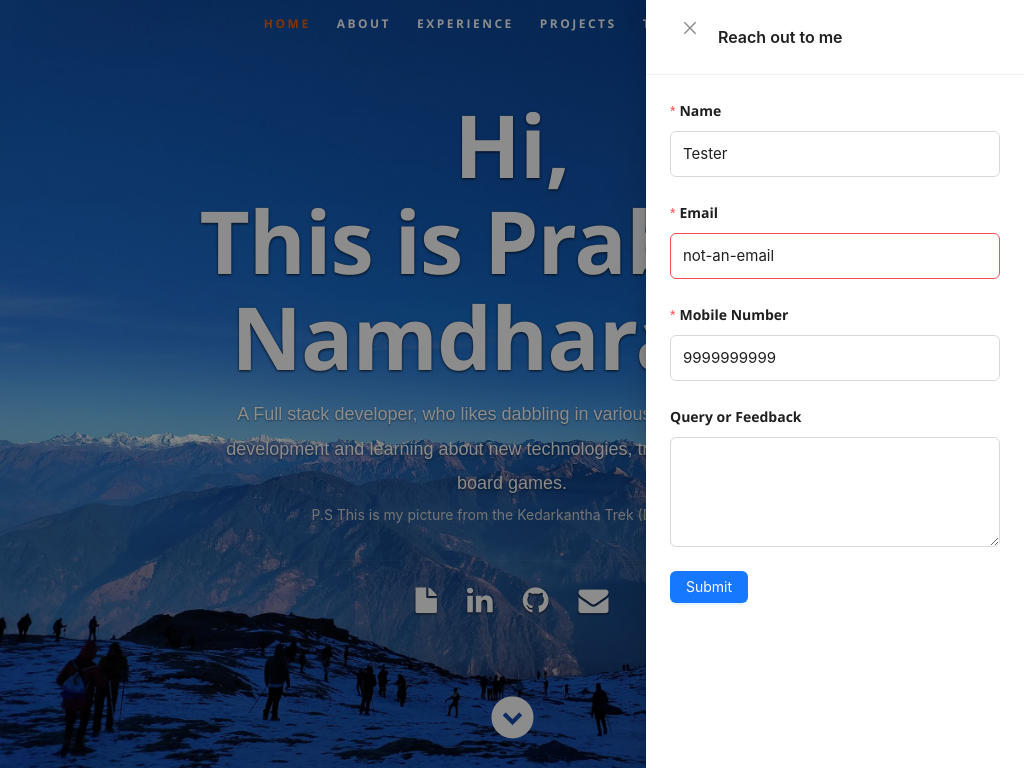
Test: portfolio › checks the contact form before sending, then sends the values
Earlier steps of the test are not shown.
Replace the text in the field labelled "Email" with "tester@example.com" at (835, 256), box left=670, top=233, right=1000, bottom=279
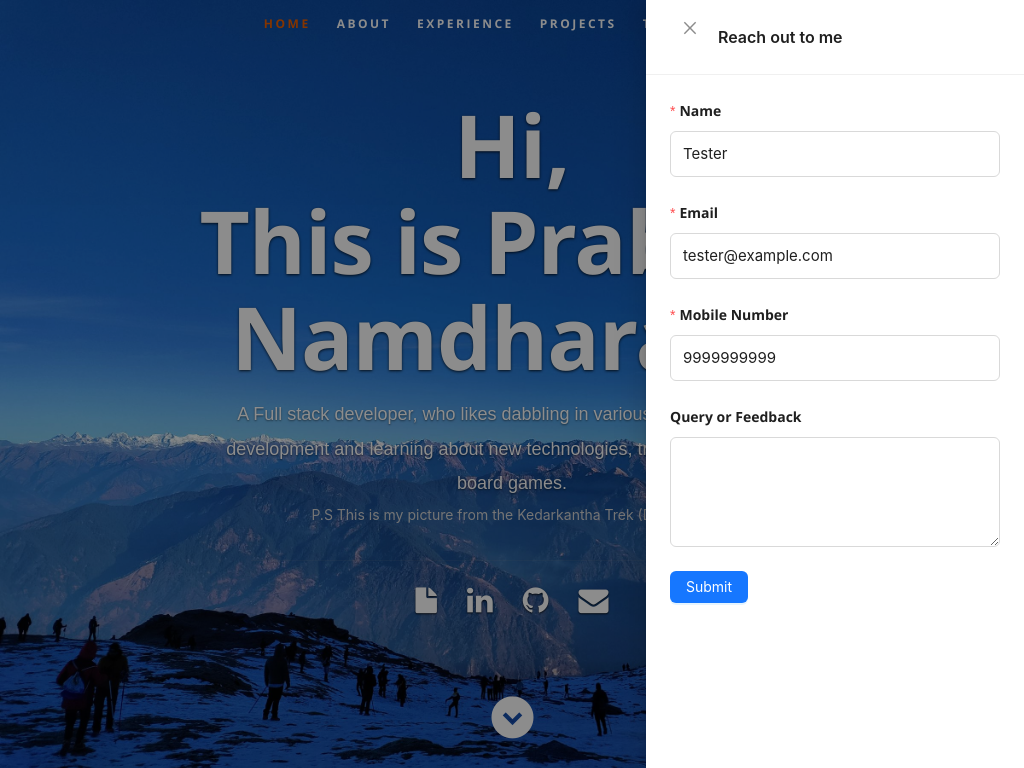
Type "Hello" into the text box labelled "Query or Feedback" at (835, 492), box left=670, top=437, right=1000, bottom=547
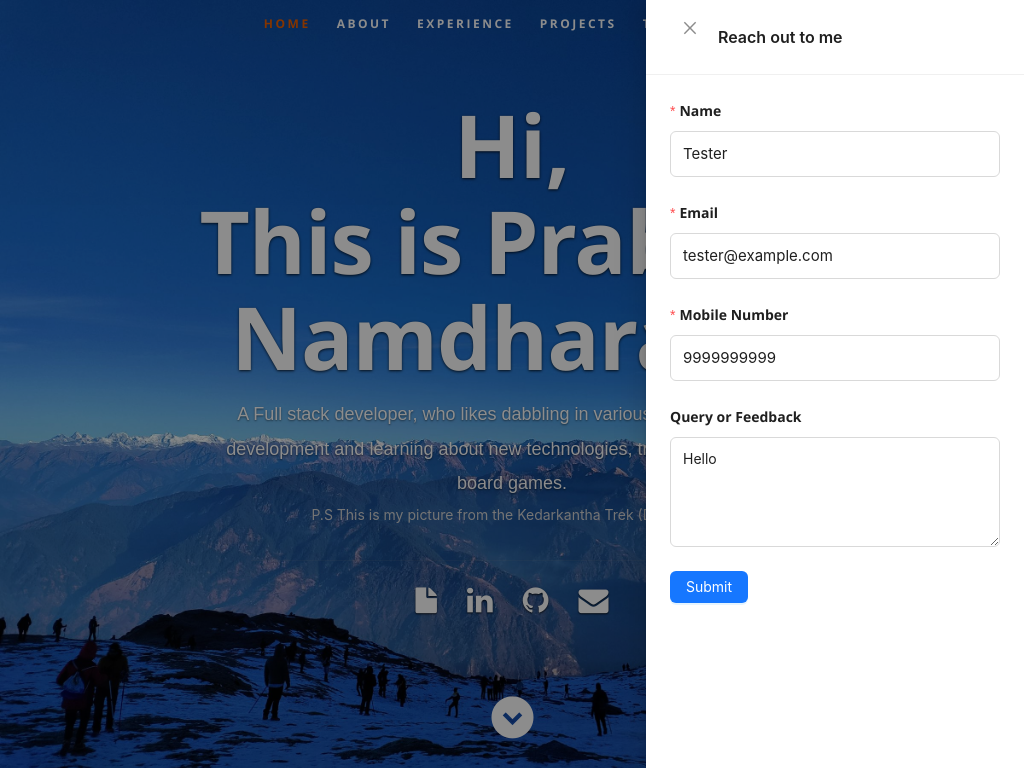
Click the button "Submit" at (709, 587), box left=670, top=571, right=748, bottom=603
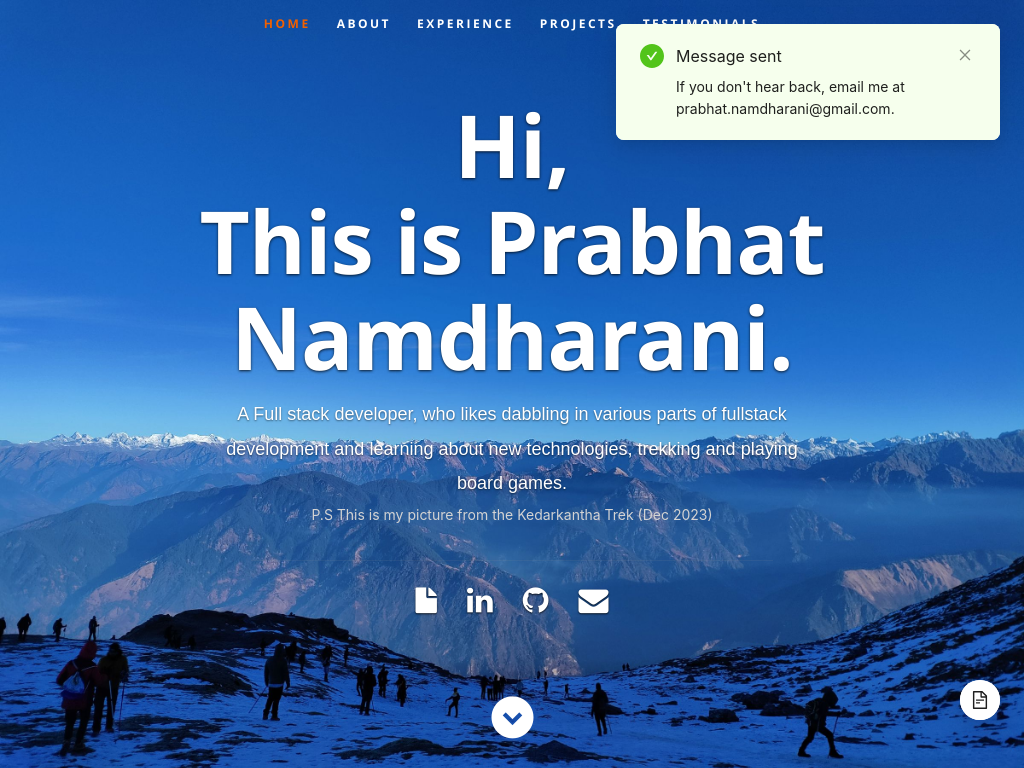
Expected: the text "Message sent" is shown, left=676, top=46, right=782, bottom=66
